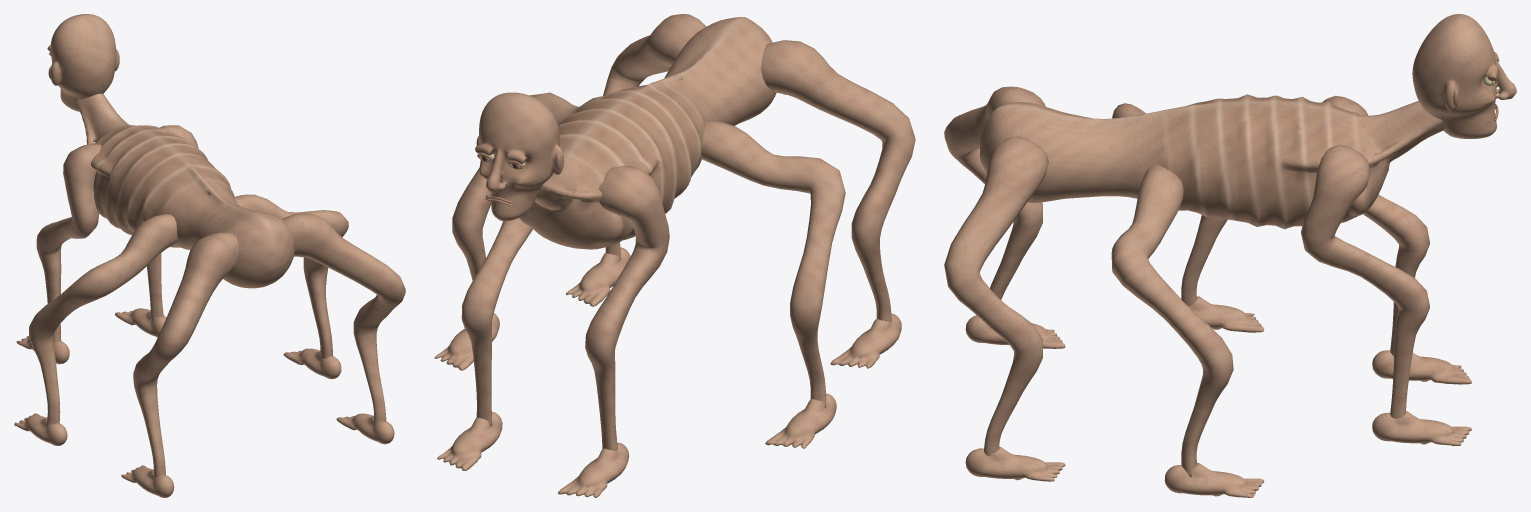
The picture shows the model from 3 angles, left to right: view 1: azimuth 30°, elevation 25°; view 2: azimuth 150°, elevation 25°; view 3: azimuth 270°, elevation 25°; orthographic projection. The views are drawn at different scales.
Bounding box in the file's own units: 1.55 × 1.55 × 2.04.
1 material, 1 textured.
